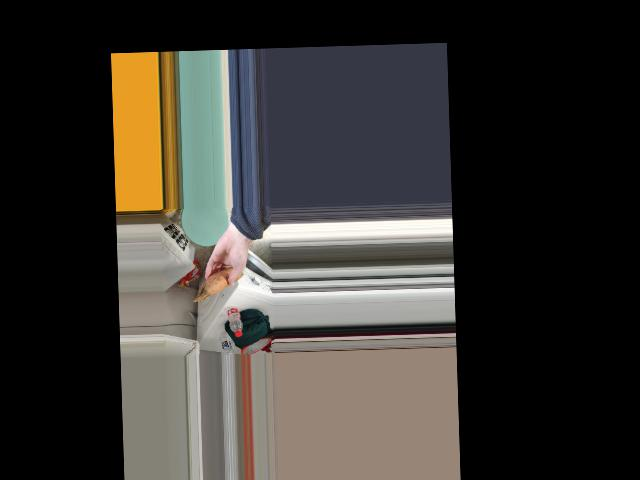sweet_potato: (206, 262, 239, 295)
